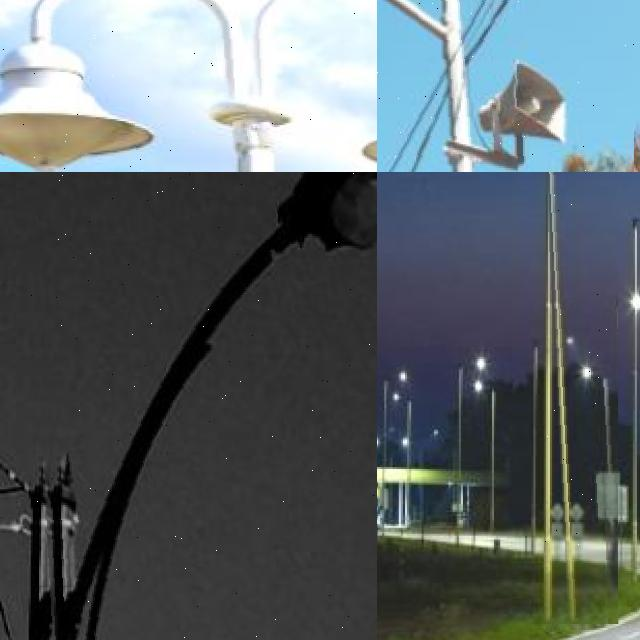street light: (26, 172, 377, 640), (0, 0, 377, 172), (377, 0, 633, 172), (543, 172, 618, 624), (601, 294, 640, 565), (454, 359, 486, 546), (382, 369, 407, 542), (568, 367, 594, 531), (473, 380, 495, 530)
